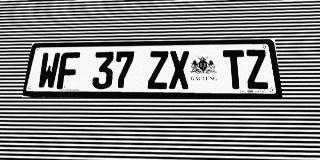3: (92, 52, 114, 89)
7: (112, 51, 134, 89)
F: (56, 52, 80, 89)
T: (223, 50, 247, 89)
W: (36, 52, 61, 89)
X: (169, 51, 190, 89)
Z: (244, 50, 270, 89), (147, 51, 168, 89)
